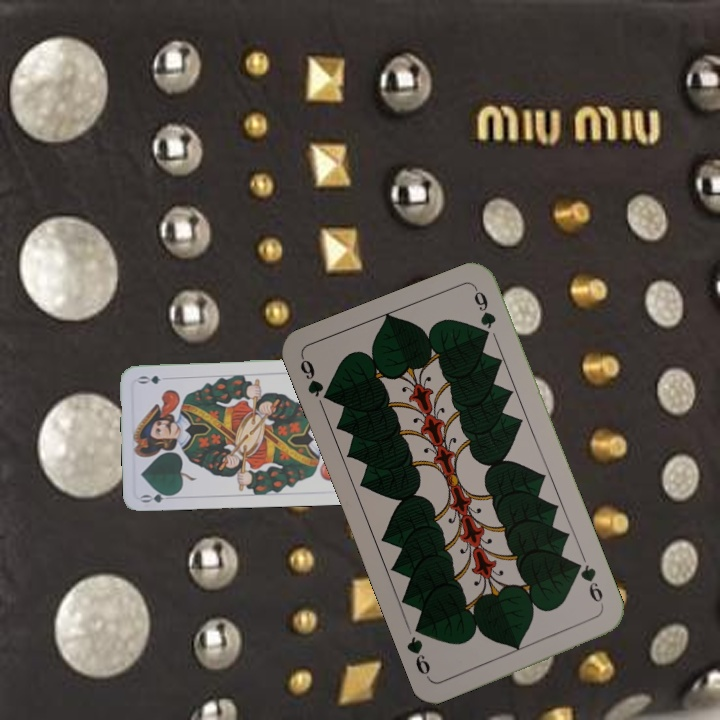G9: (296, 353, 336, 406), (570, 558, 607, 612)
GO: (138, 487, 178, 505)
